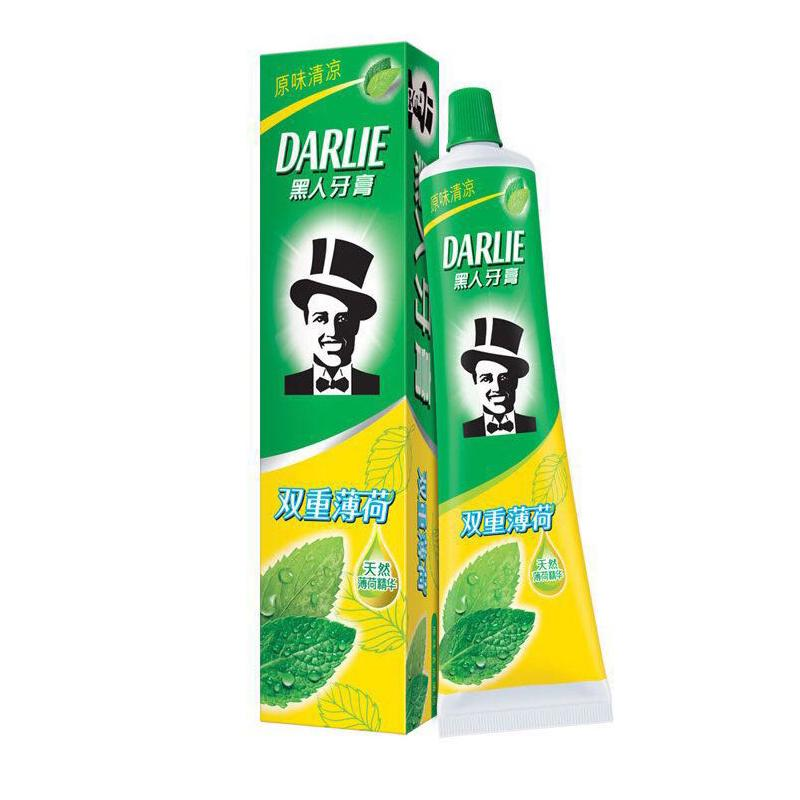toothpaste: (252, 47, 498, 754), (412, 77, 622, 737)
